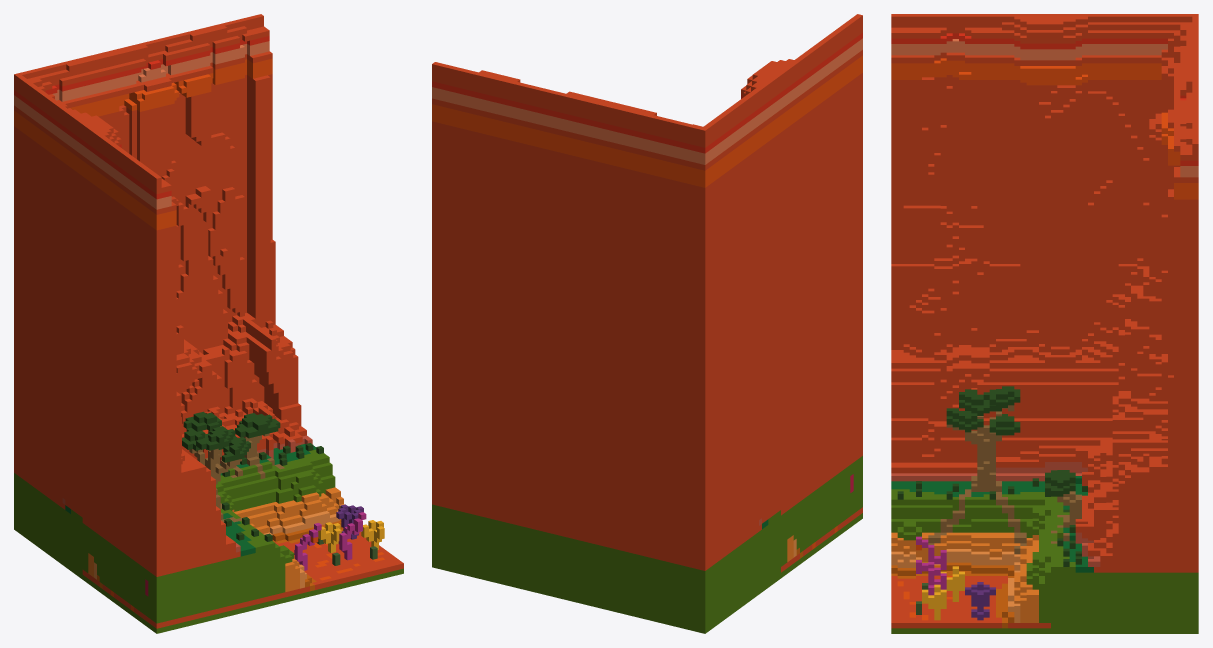
File: western19.obj
3 views of the same model, side by side, from view 1: azimuth 30°, elevation 25°; view 2: azimuth 150°, elevation 25°; view 3: azimuth 270°, elevation 25° (orthographic). The views are drawn at different scales.
Size of the model in its own units: 5 by 8.8 by 5.
1 material, 1 textured.
